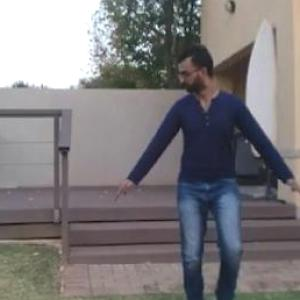land: (102, 39, 299, 299)
